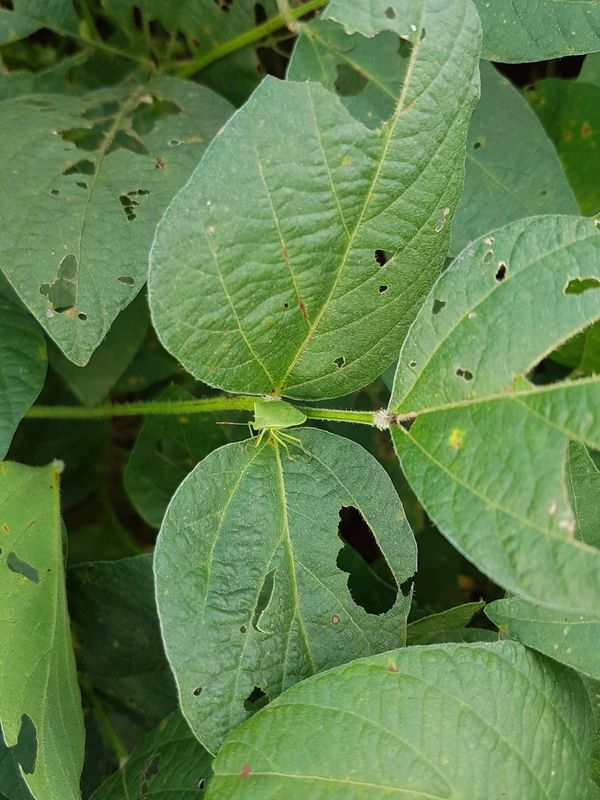Nezara_viridula_adulto: (208, 383, 320, 479)
